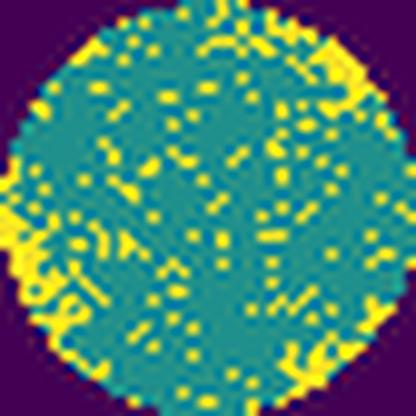Edge-Loc: (301, 37, 391, 120), (0, 193, 68, 299), (268, 335, 339, 410), (361, 294, 399, 327)
